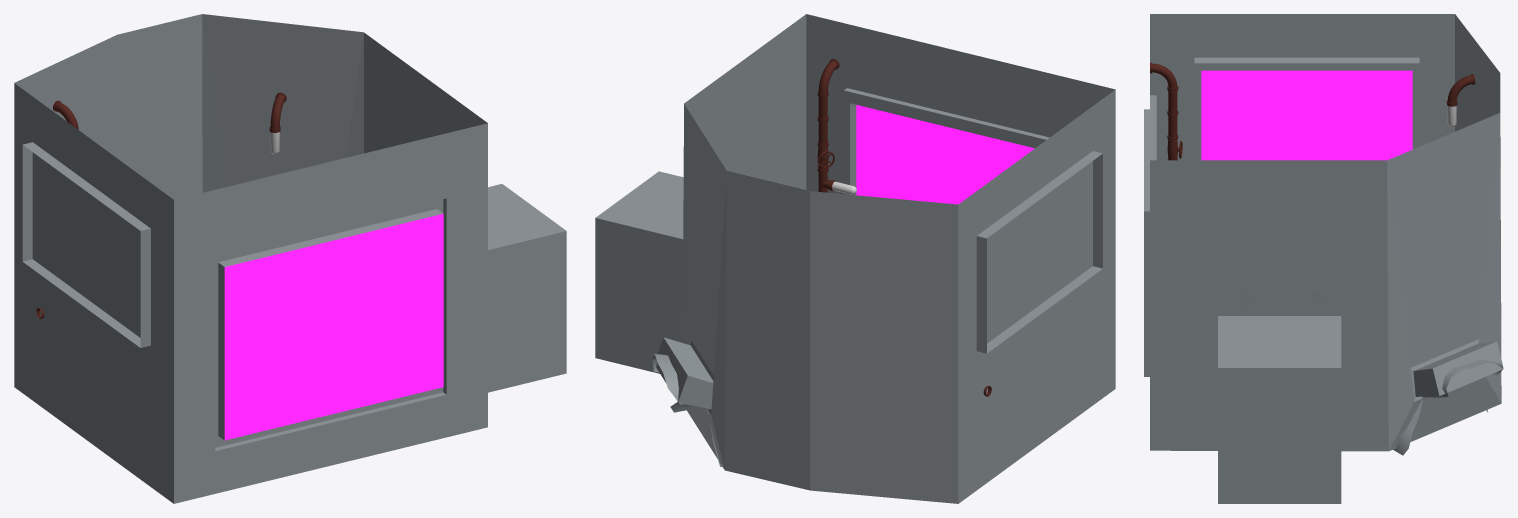
Rendered from INB306 Updated Room.fbx.
3 views of the same model, side by side, from view 1: azimuth 30°, elevation 25°; view 2: azimuth 150°, elevation 25°; view 3: azimuth 270°, elevation 25° (orthographic). The views are drawn at different scales.
Visible parts, largest first — view 1: Room.007; view 2: Room.007; view 3: Room.007.
Boxes of the visible parts, x1,y1,x2,y2 form: Room.007: (14, 14, 566, 503); Room.007: (595, 14, 1115, 503); Room.007: (1144, 14, 1503, 503).
Bounding box in the file's own units: 327 × 221 × 243.
